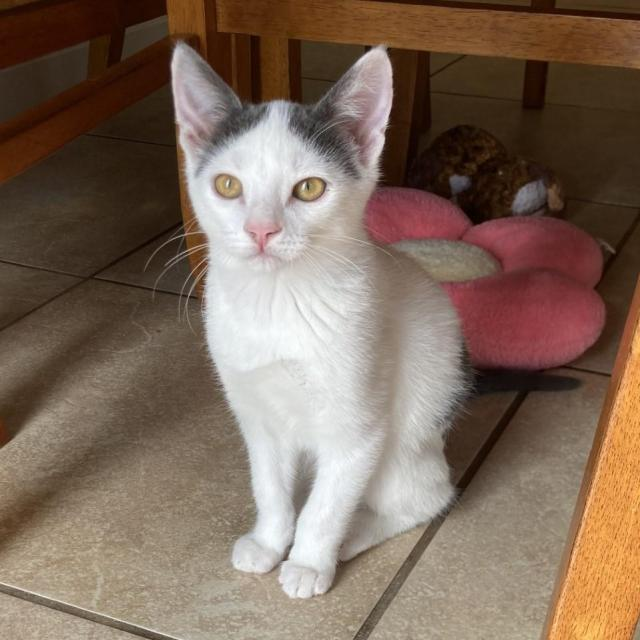american_shorthair_cat: (162, 30, 402, 283)
